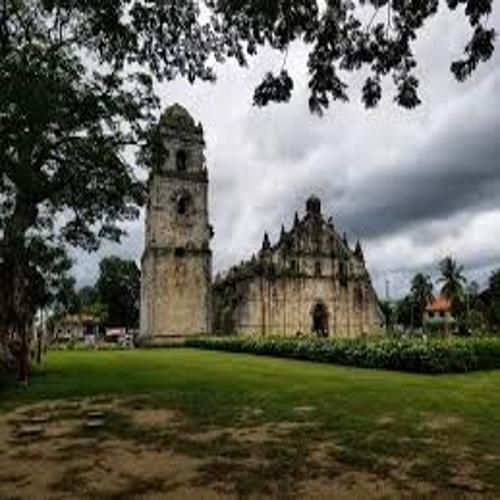Paoay Church: (132, 96, 401, 350)
